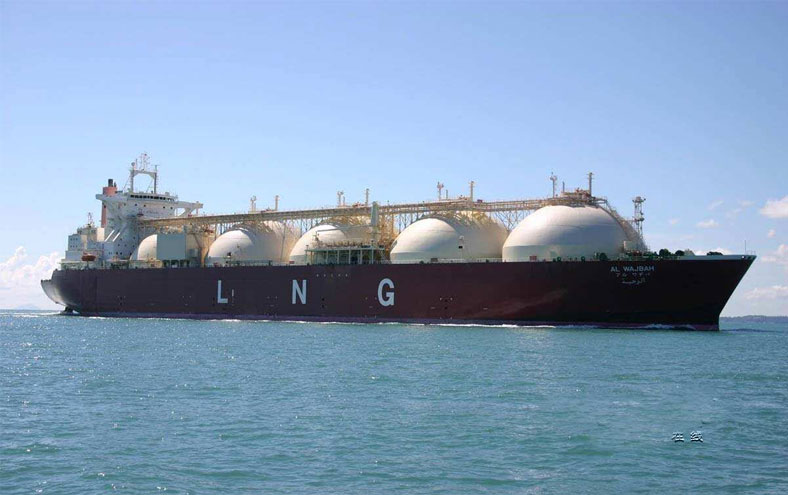Cargoship: (38, 148, 757, 328)
